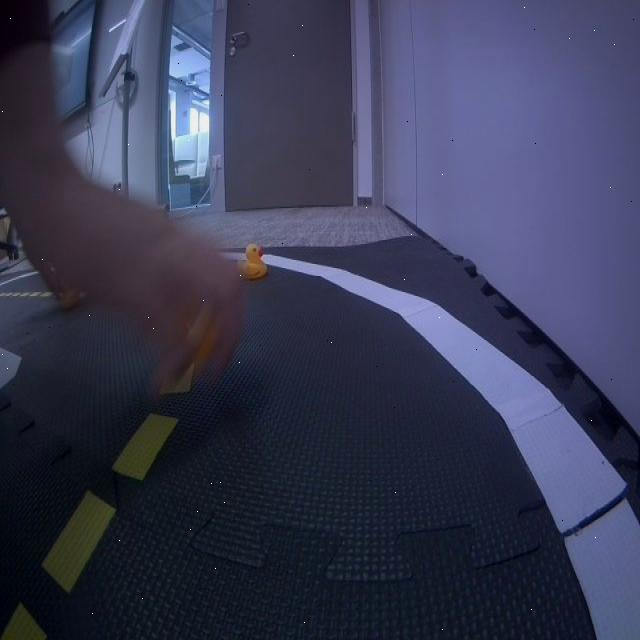duckie: (236, 242, 268, 281)
